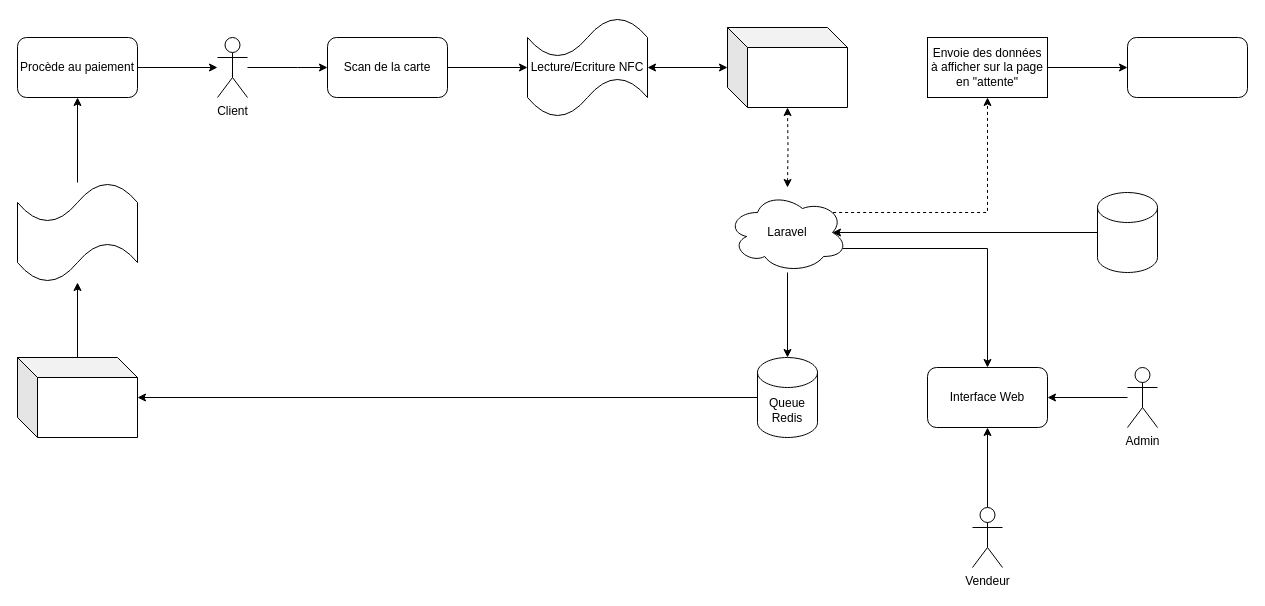
Image size: 1265x606. Some labels were removed from this diagram. Each missing label, with the box of its shape:
Affichage sur l'écran: (1126, 36, 1248, 98)
BDD MariaDB: (1096, 192, 1158, 272)
Python-NFC: (726, 26, 848, 108)
Python-TPE: (16, 356, 138, 438)
TPE: (16, 182, 138, 282)
